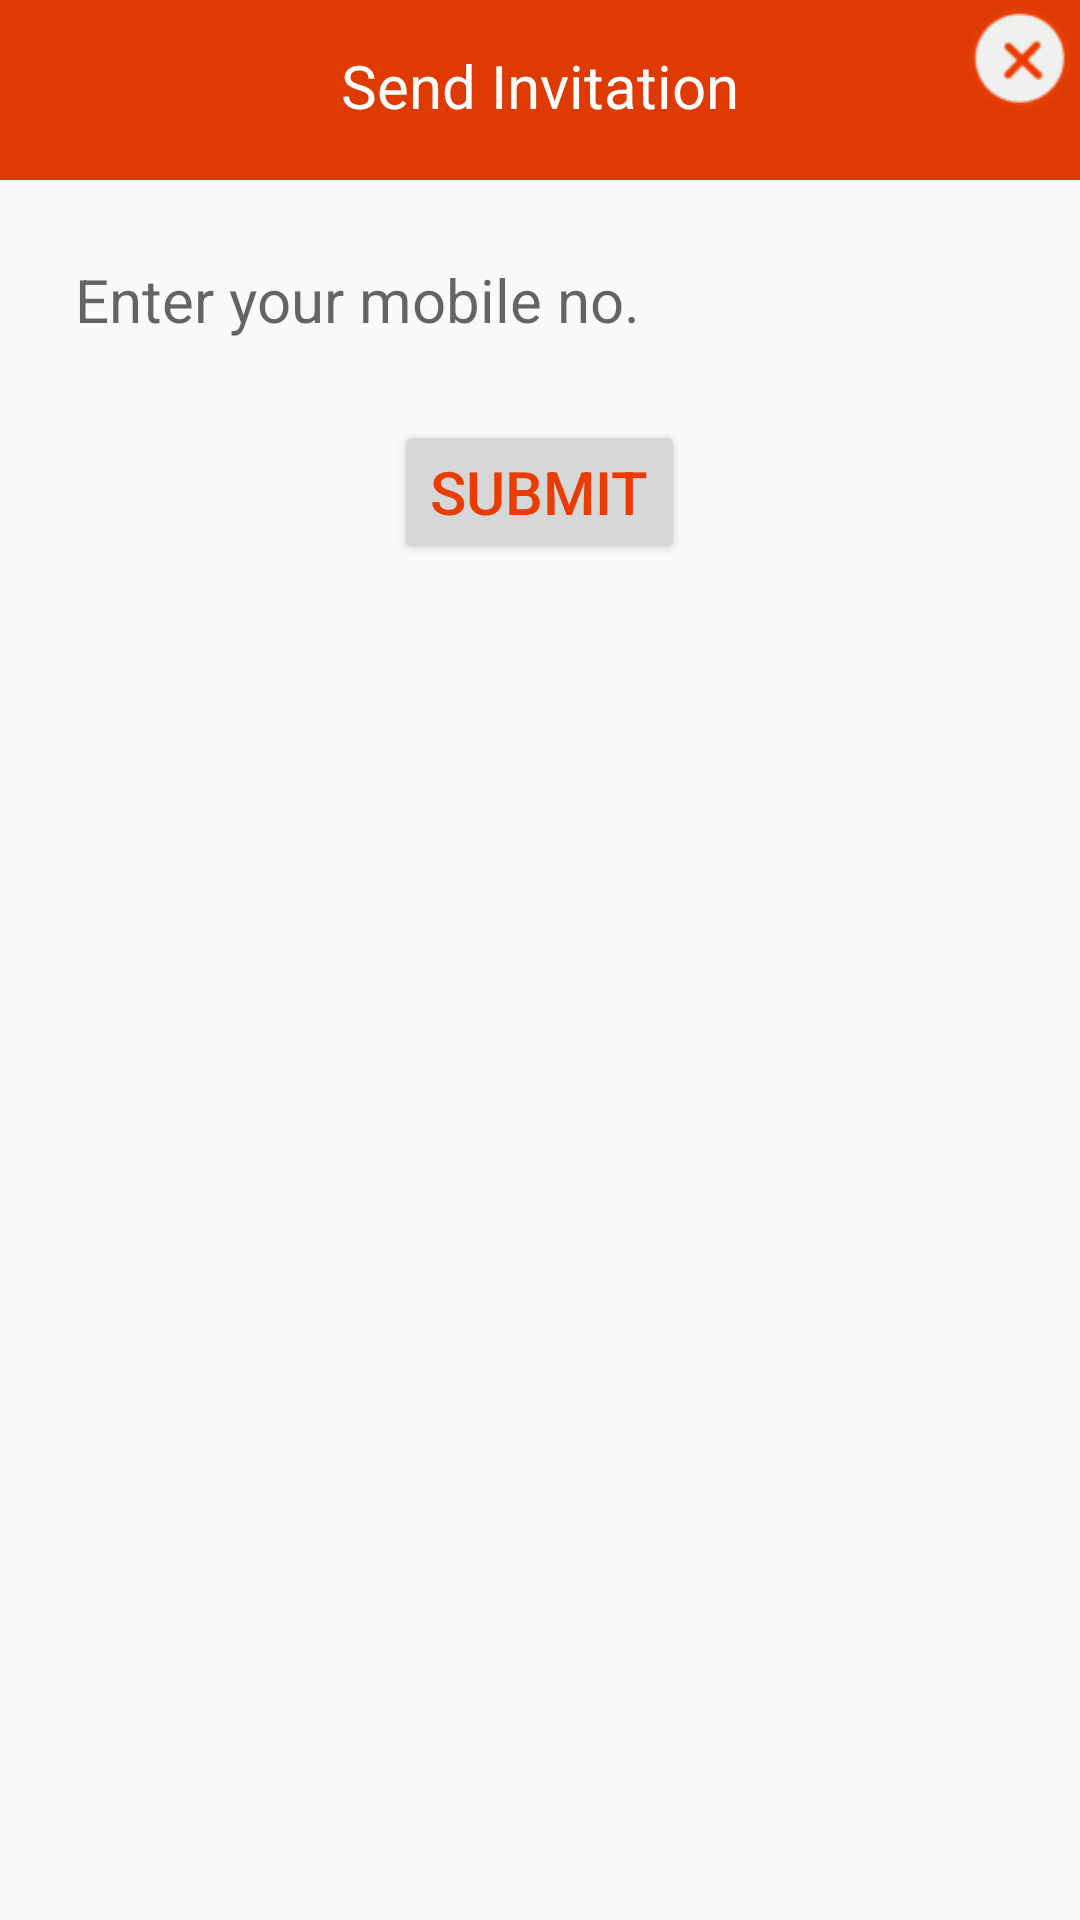

Icons on this 1080*1920 Android screen, each with its box as (x1, y1, x2, y2):
cross: (974, 8, 1065, 104)
